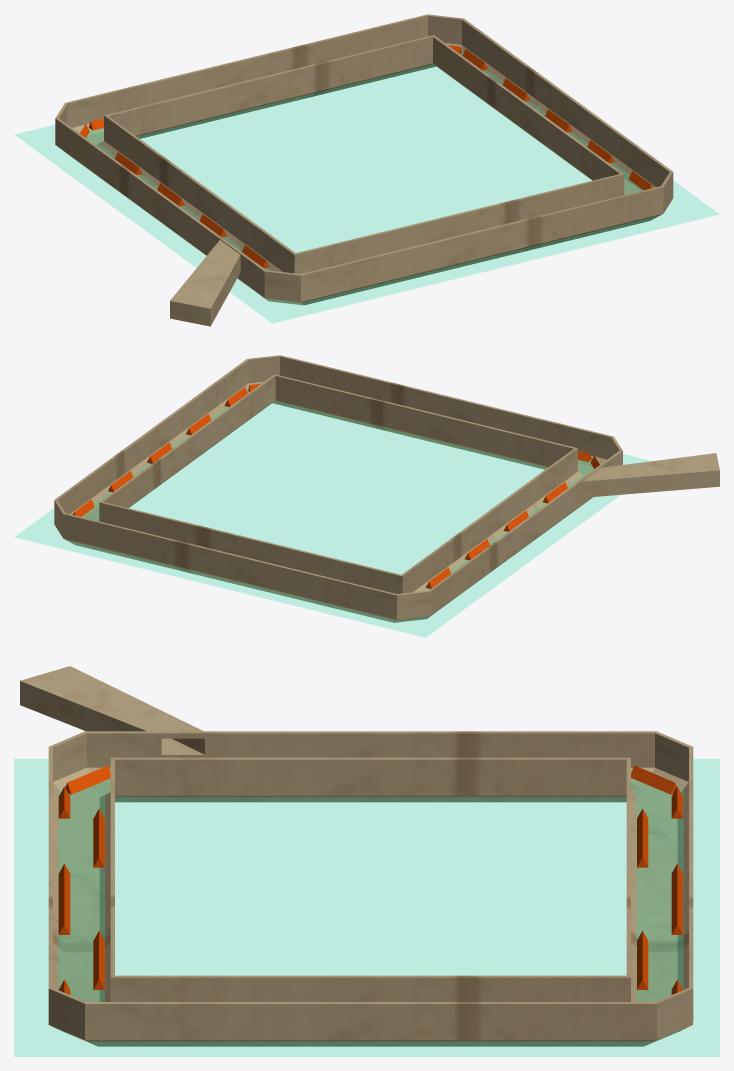
The model's file is MapSwimingPool.fbx.
3 views of the same model, one above another, from view 1: azimuth 30°, elevation 25°; view 2: azimuth 150°, elevation 25°; view 3: azimuth 270°, elevation 25° (orthographic). The views are drawn at different scales.
Visible parts, largest first — view 1: WALLS, WATER, LINES; view 2: WALLS, WATER, LINES; view 3: WATER, WALLS, LINES.
Part boxes in pixels (box(x1,y1,x2,y2)): WALLS: box(55, 14, 673, 326); WATER: box(14, 52, 719, 323); LINES: box(80, 45, 653, 268); WALLS: box(54, 355, 719, 622); WATER: box(15, 391, 649, 637); LINES: box(72, 383, 599, 588); WATER: box(14, 759, 719, 1056); WALLS: box(20, 666, 693, 1046); LINES: box(58, 765, 682, 994).
Bounding box in the file's own units: 289 × 244 × 18.5.
